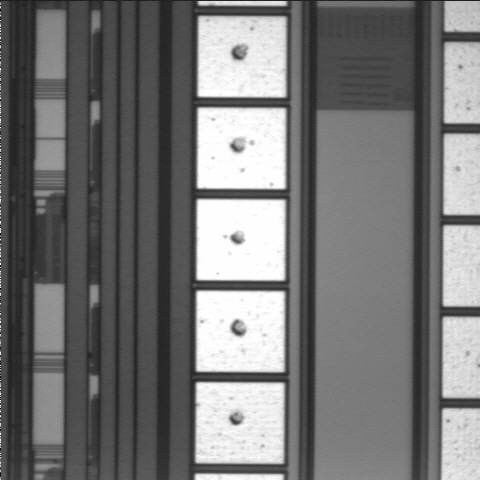pad: (196, 199, 285, 281), (195, 382, 284, 464), (197, 108, 286, 189), (196, 291, 285, 372), (198, 16, 286, 97)
